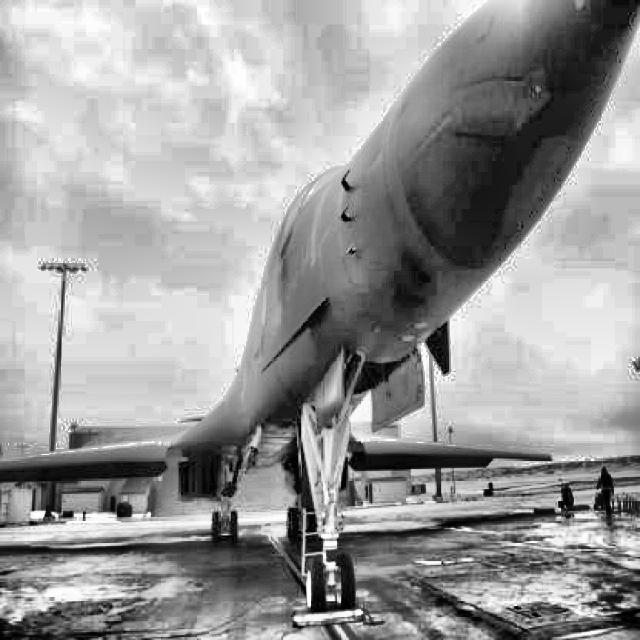B1: (1, 1, 639, 614)
